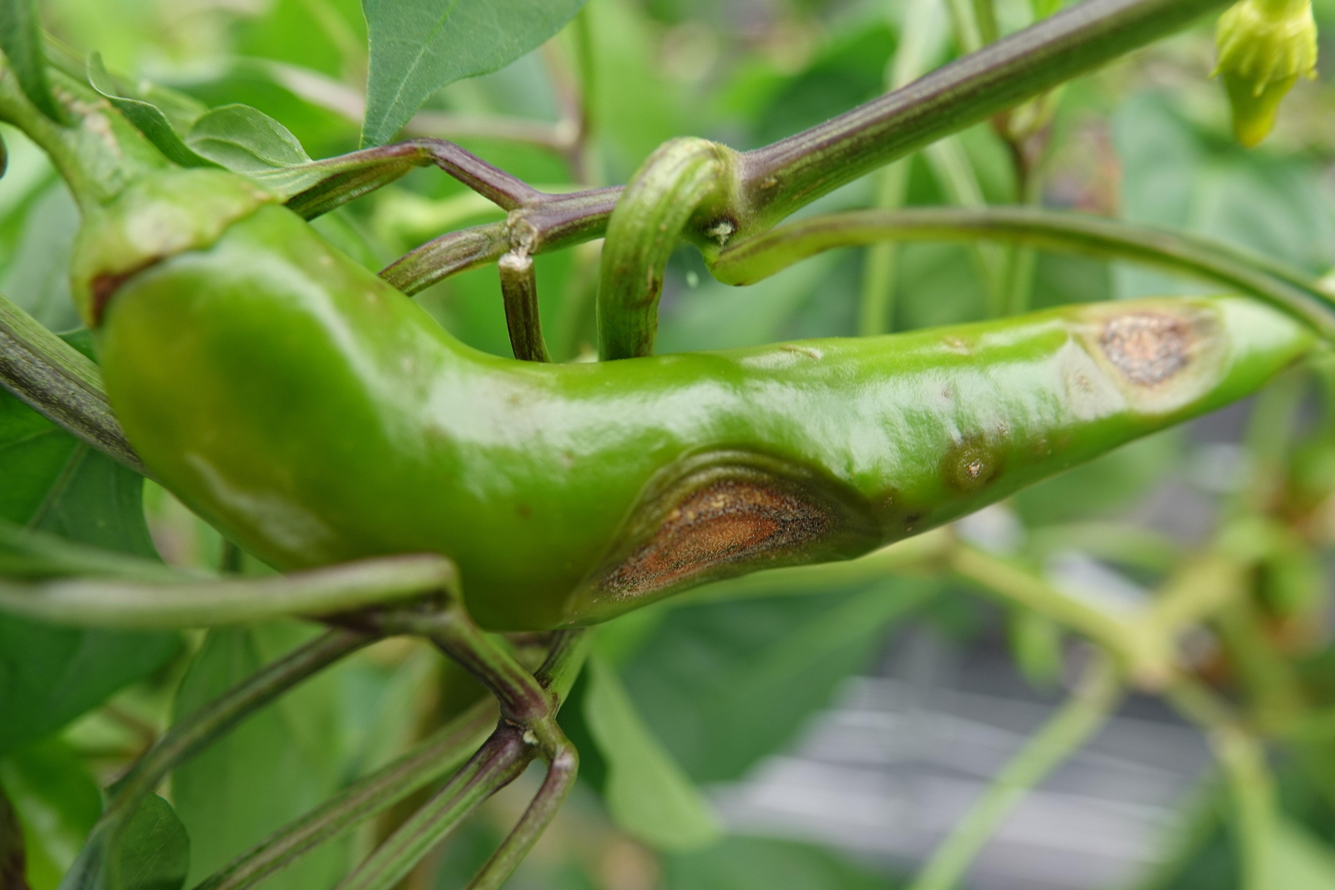Busuk Buah Antraknosa: (70, 159, 1309, 637)
